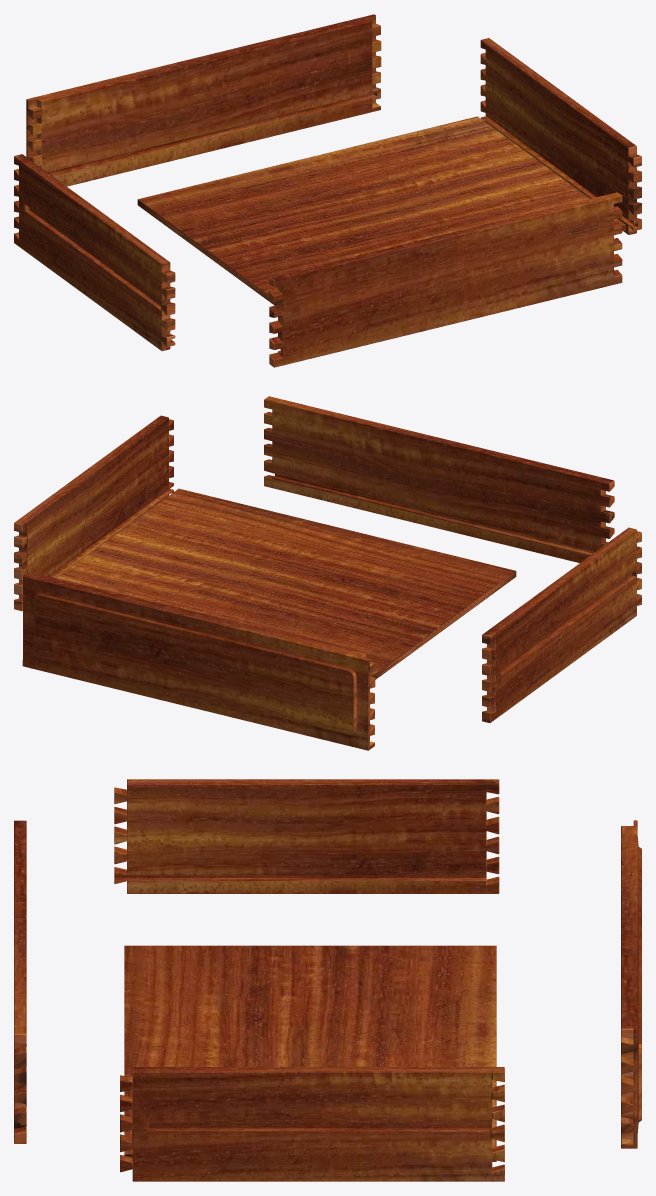
File: SJ_J_choudiban_02.FBX
3 renders of one model, top to bottom at view 1: azimuth 30°, elevation 25°; view 2: azimuth 150°, elevation 25°; view 3: azimuth 270°, elevation 25°, orthographic. The views are drawn at different scales.
Visible parts, largest first — view 1: SJ_J_choudiban_02, SJ_J_choumian_02, SJ_J_chouhou_02, SJ_J_chouce_04, SJ_J_chouce_03; view 2: SJ_J_choudiban_02, SJ_J_choumian_02, SJ_J_chouhou_02, SJ_J_chouce_04, SJ_J_chouce_03; view 3: SJ_J_choudiban_02, SJ_J_chouce_04, SJ_J_chouce_03, SJ_J_choumian_02, SJ_J_chouhou_02.
Part boxes in pixels (x1,y1,x2,y2): SJ_J_choudiban_02: (137,116,625,305); SJ_J_choumian_02: (26,14,381,186); SJ_J_chouhou_02: (269,192,622,367); SJ_J_chouce_04: (14,154,175,350); SJ_J_chouce_03: (480,38,641,234); SJ_J_choudiban_02: (57,488,516,679); SJ_J_choumian_02: (22,573,375,750); SJ_J_chouhou_02: (264,396,614,562); SJ_J_chouce_04: (482,527,641,722); SJ_J_chouce_03: (14,415,173,611); SJ_J_choudiban_02: (124,945,496,1161); SJ_J_chouce_04: (114,779,499,893); SJ_J_chouce_03: (120,1067,504,1181); SJ_J_choumian_02: (621,820,641,1148); SJ_J_chouhou_02: (14,820,26,1143).
Bounding box in the file's own units: 65.79 × 12.01 × 59.54.
